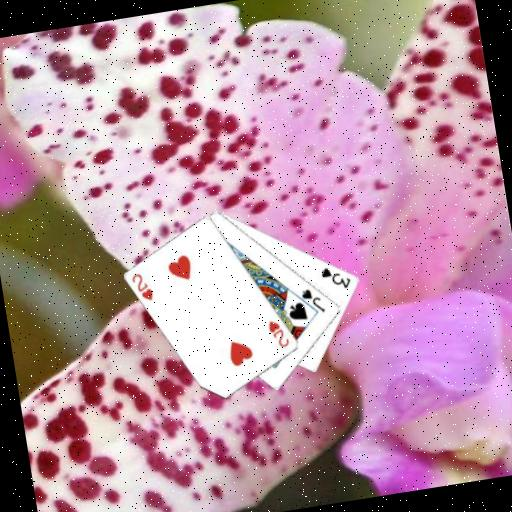2H: (128, 268, 156, 305), (263, 315, 291, 351)
3S: (316, 260, 353, 293)
JS: (297, 283, 327, 317)
